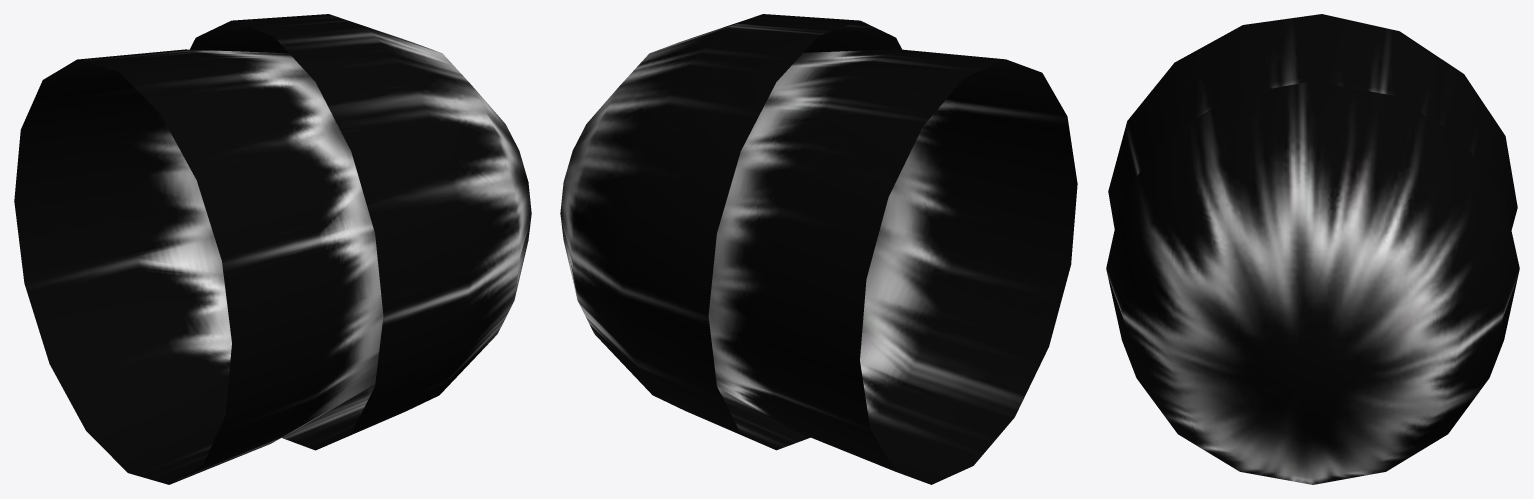
The model's file is top1.FBX.
3 renders of one model, left to right at view 1: azimuth 30°, elevation 25°; view 2: azimuth 150°, elevation 25°; view 3: azimuth 270°, elevation 25°, orthographic. The views are drawn at different scales.
Parts seen in each view (by area): view 1: bo003, bo001; view 2: bo003, bo001; view 3: bo001, bo003.
Part boxes in pixels (left/top/right/bottom): bo003: left=14, top=49, right=383, bottom=484; bo001: left=190, top=14, right=531, bottom=450; bo003: left=708, top=49, right=1077, bottom=484; bo001: left=560, top=14, right=901, bottom=450; bo001: left=1106, top=81, right=1519, bottom=484; bo003: left=1108, top=14, right=1517, bottom=230.
Bounding box in the file's own units: 95.88 × 94.28 × 94.28.
Materials: 1 (1 with a texture image).
